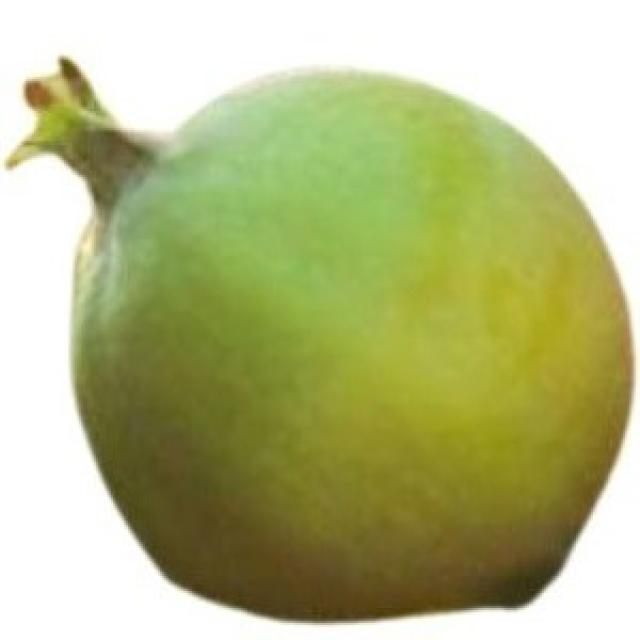50-_ripeness: (0, 34, 627, 632)
